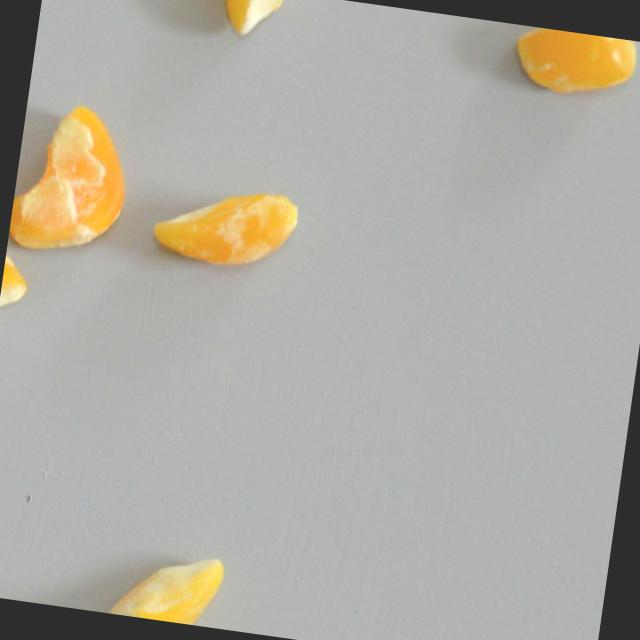estandar: (101, 542, 227, 629), (213, 0, 313, 46)
pelicula: (9, 119, 160, 255), (178, 152, 275, 314), (523, 27, 626, 118), (0, 239, 36, 352)
